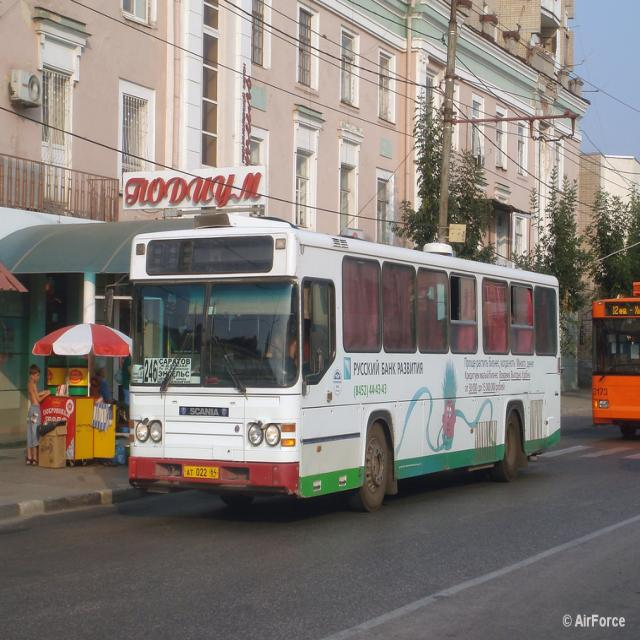number-of-bus: (145, 359, 159, 384)
